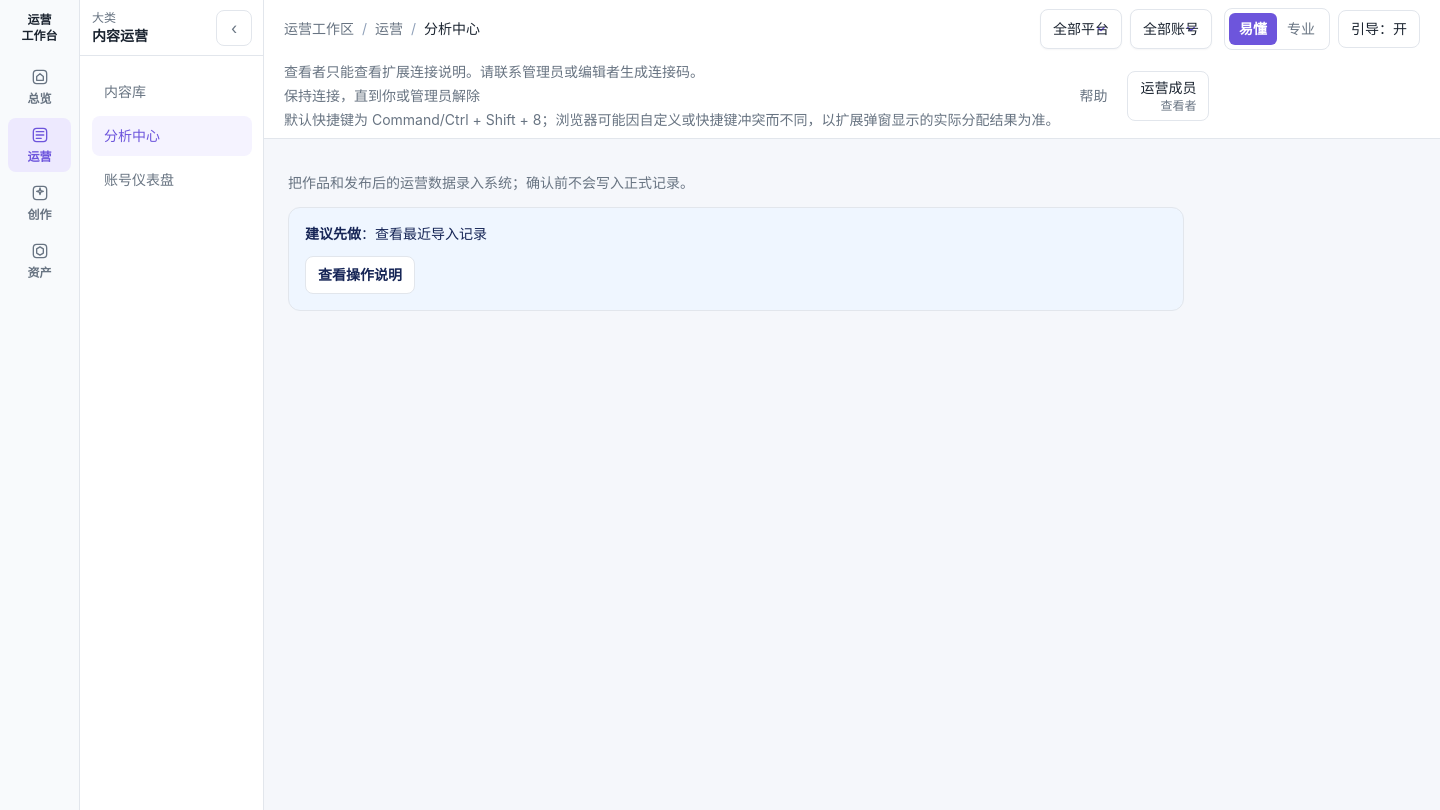
Scenario: keeps viewer import instructions read-only when expanded
This screenshot has width=1440, height=810.
Click the button "查看操作说明". click: (360, 275)
box: [305,256,415,294]
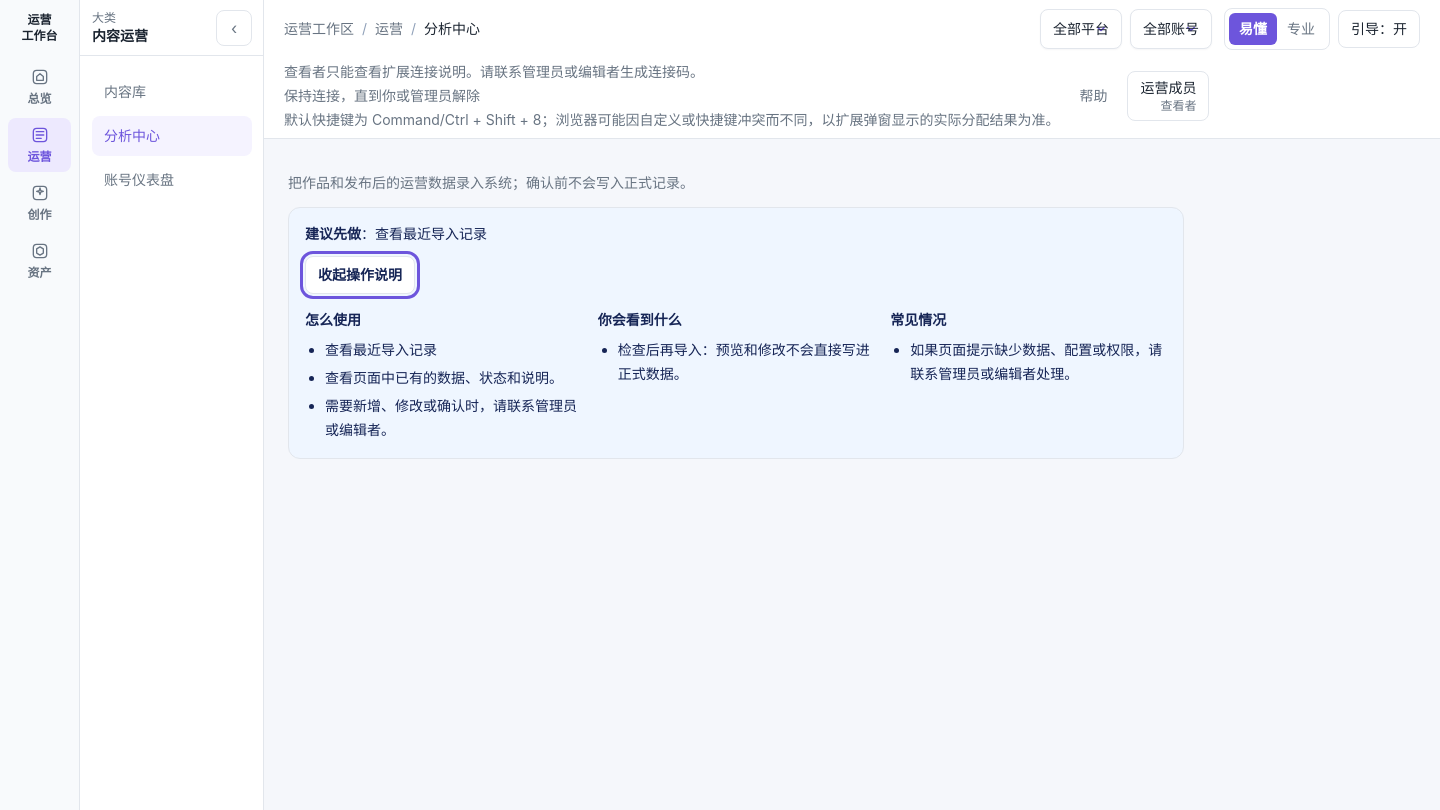
Check: the list item "查看最近导入记录" is shown, box [325,341,437,358]
Check: the list item "查看页面中已有的数据、状态和说明。" is shown, box [325,366,582,390]
Check: the list item "需要新增、修改或确认时，请联系管理员或编辑者。" is shown, box [325,394,582,442]
